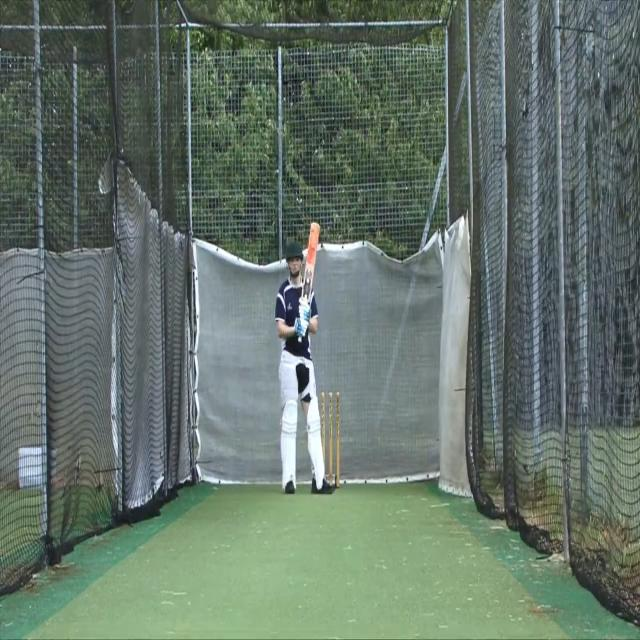batsman: (274, 219, 336, 496)
